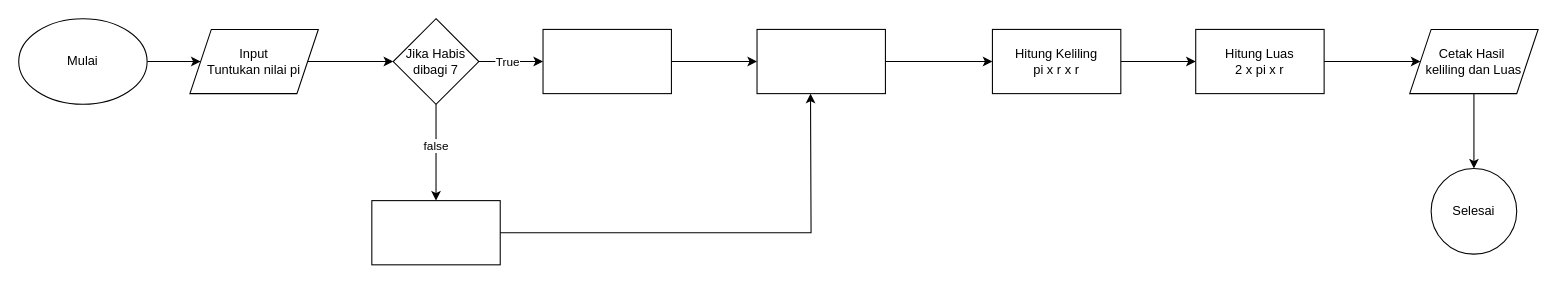
The diagram is 1557 pixels wide and 284 high, and some of its shapes have lost their labels. The centre of each missing label's shape, as x and y in pixels:
"dibagi 22/7" goes at point 606,61.
"dibagi 3,14" goes at point 435,232.
"Hitung Luas/keliling" goes at point 820,61.
